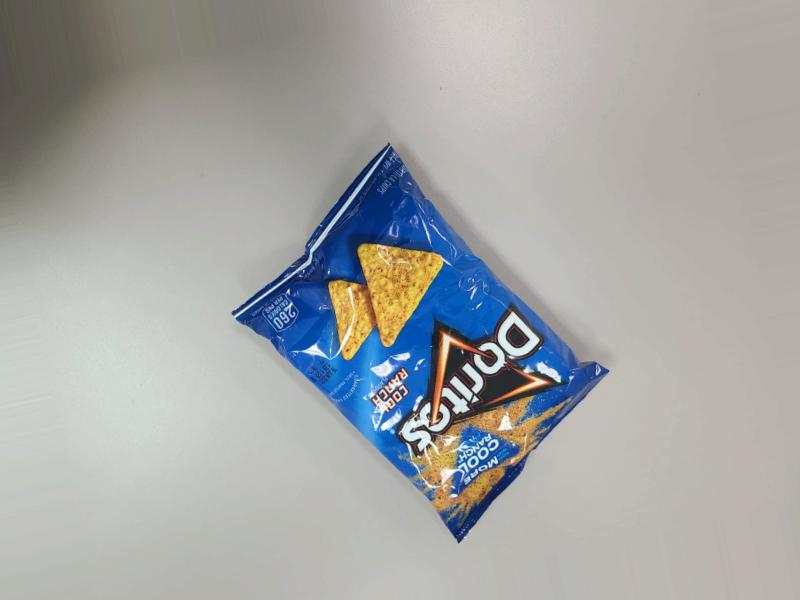doritos: (229, 132, 594, 564)
